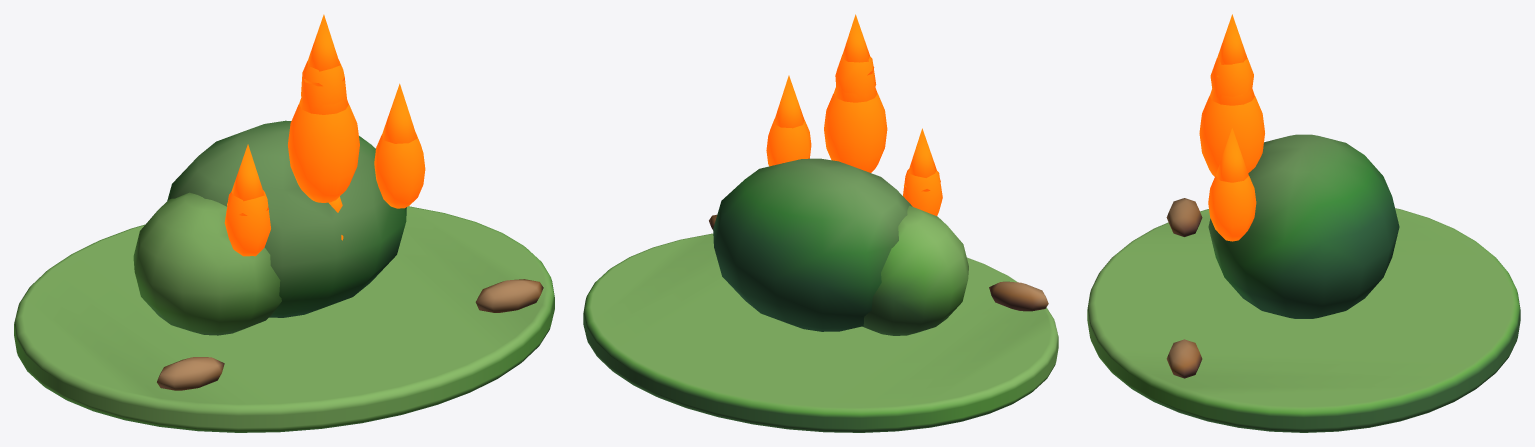
The model's file is bush.glb.
3 renders of one model, left to right at view 1: azimuth 30°, elevation 25°; view 2: azimuth 150°, elevation 25°; view 3: azimuth 270°, elevation 25°, orthographic. The views are drawn at different scales.
Parts seen in each view (by area): view 1: bush; view 2: bush; view 3: bush.
Boxes of the visible parts, x1,y1,x2,y2 form: bush: (14, 14, 554, 432); bush: (583, 14, 1058, 432); bush: (1087, 14, 1520, 432).
Bounding box in the file's own units: 6.4 × 4.35 × 5.44.
